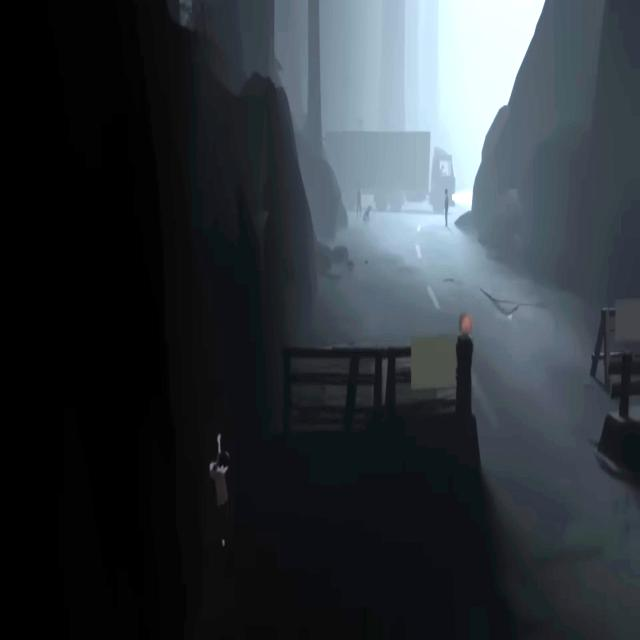boy: (210, 434, 230, 558)
